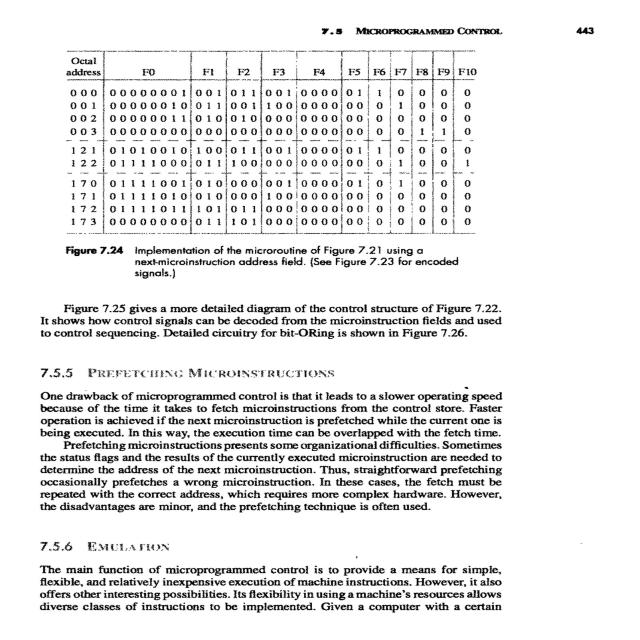diagram: (32, 40, 536, 283)
